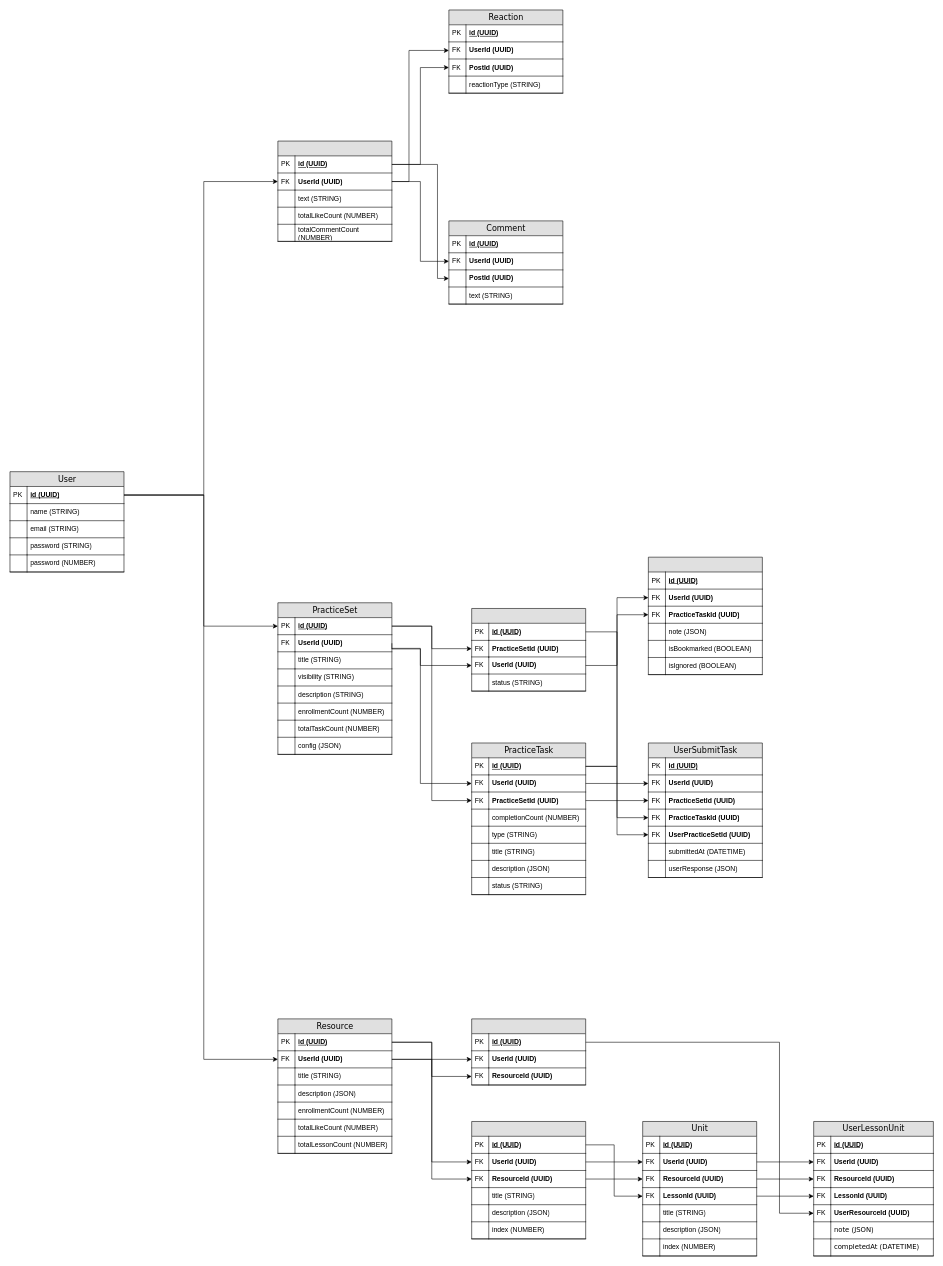
The diagram is 943 pixels wide and 1266 high, and some of its shapes have lost their labels. The shapes that lost their labels are listed below. From the top down, each one's box as (x1, y1, x2, y2) in pixels, then its label:
(277, 141, 392, 241): Post
(648, 557, 762, 675): UserTaskMetadata
(471, 608, 586, 691): UserPracticeSet
(471, 1018, 586, 1085): UserResource
(471, 1121, 586, 1239): Lesson
